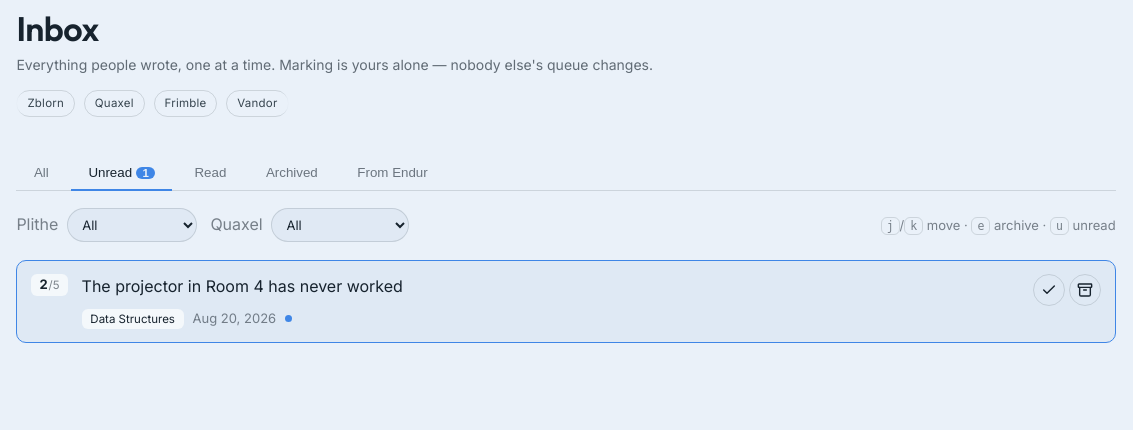
the queue › DOES NOT EVICT THE CARD IT JUST OPENED — the bug the test above found
Click the button "The projector in Room 4 has never worked".
click(242, 286)  # box [82,274,1020,300]
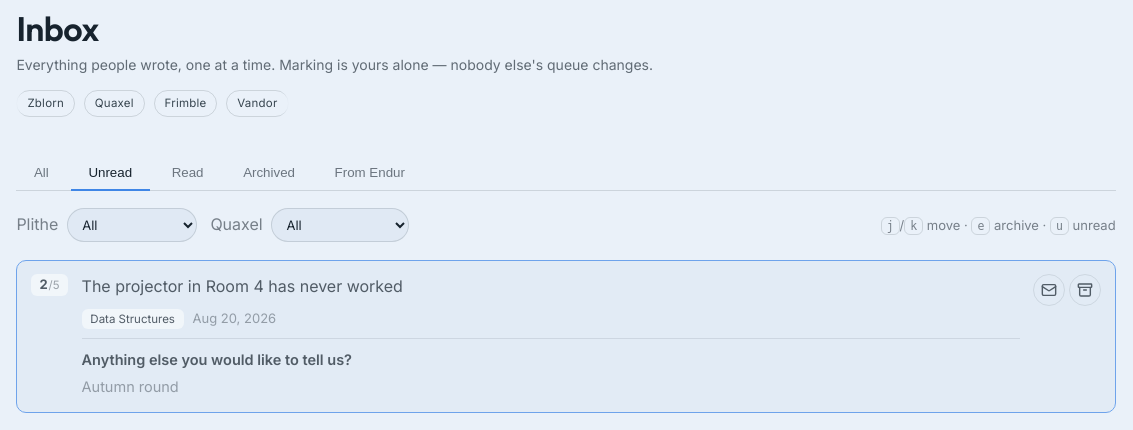
Expected: the text "Anything else you would like to tell us?" is shown, [82,351,352,368]
Expected: the tab "Unread" is shown, [71,156,150,191]
Click the button titled "Mark unread (u)".
click(1049, 290)  # box [1033,274,1065,306]
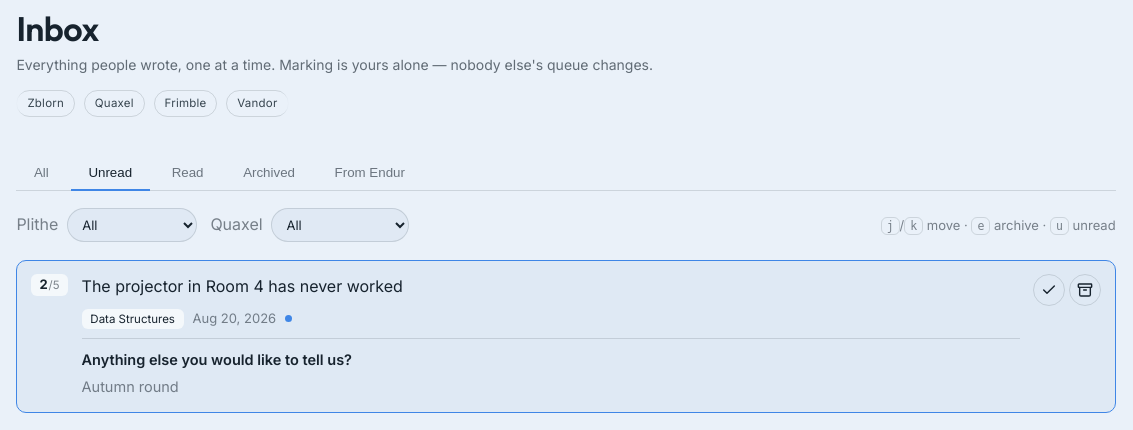
Click the button titled "Mark read (u)".
click(1049, 290)  # box [1033,274,1065,306]
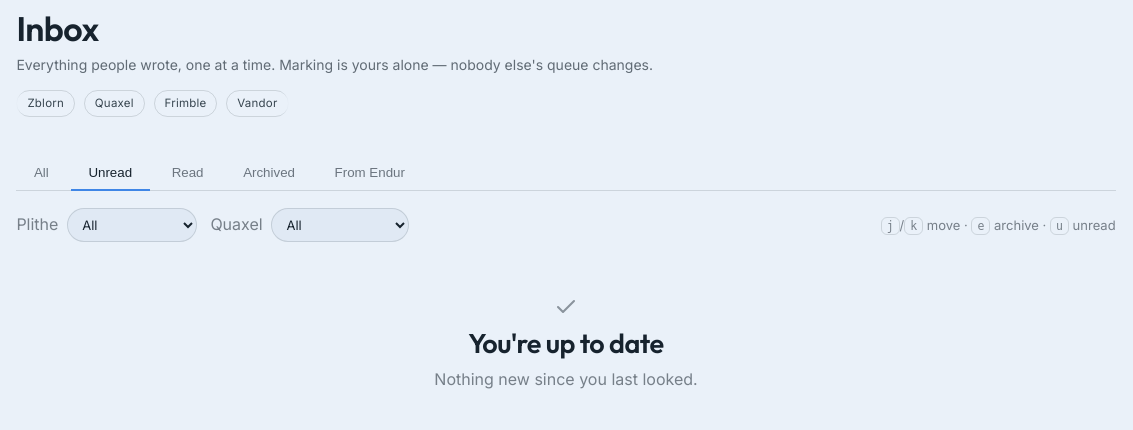
Expected: the button "projector in Room 4" is gone
